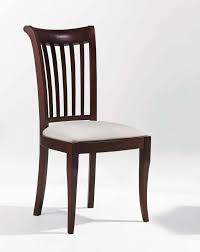tiyarina: (21, 18, 153, 233)
